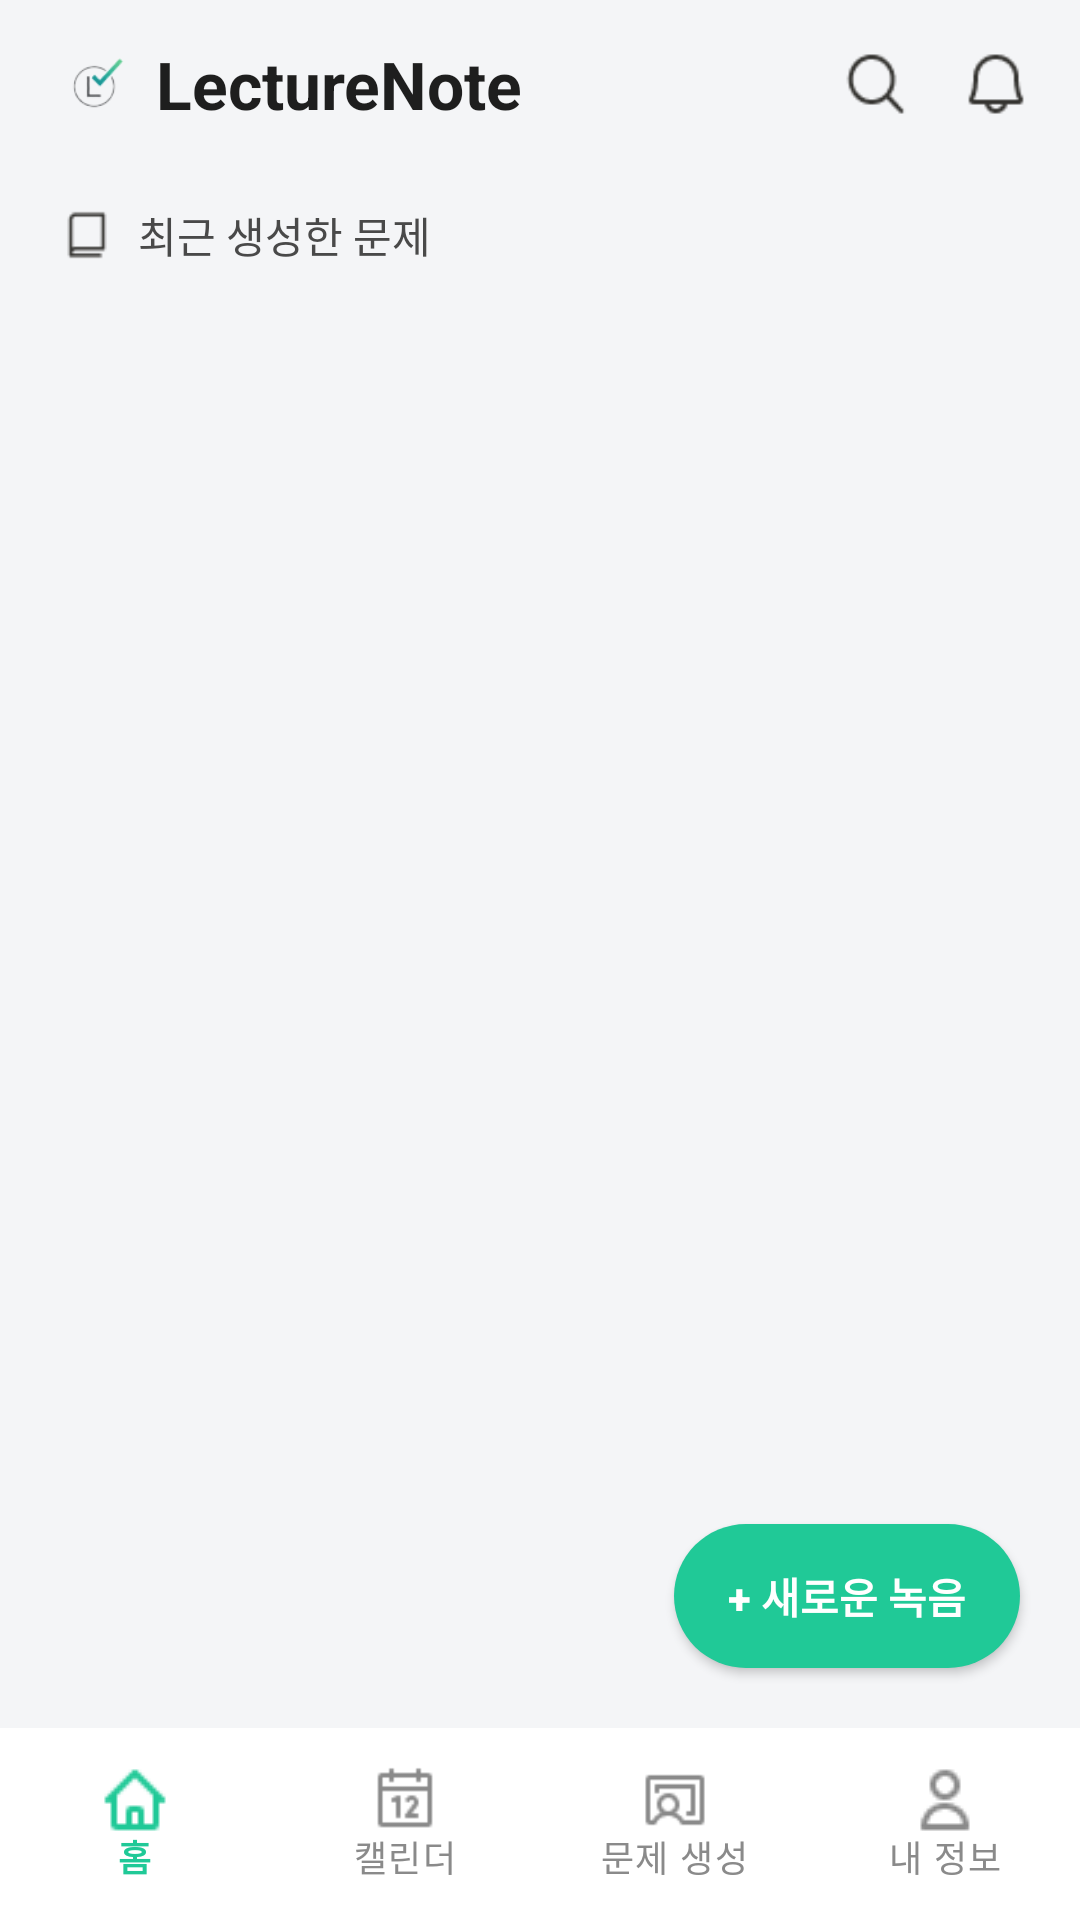

Named icons in this screenshot (1080*1920) and their centers, point (x, y):
alert: point (996, 84)
book: point (87, 235)
search: point (875, 84)
